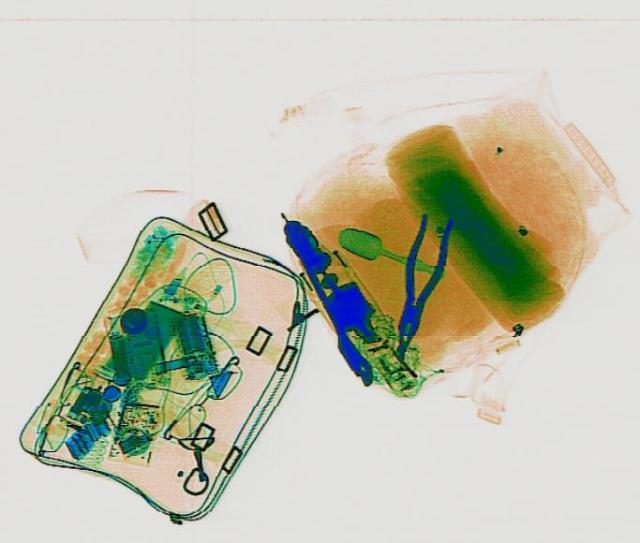Pliers: (378, 210, 457, 353)
